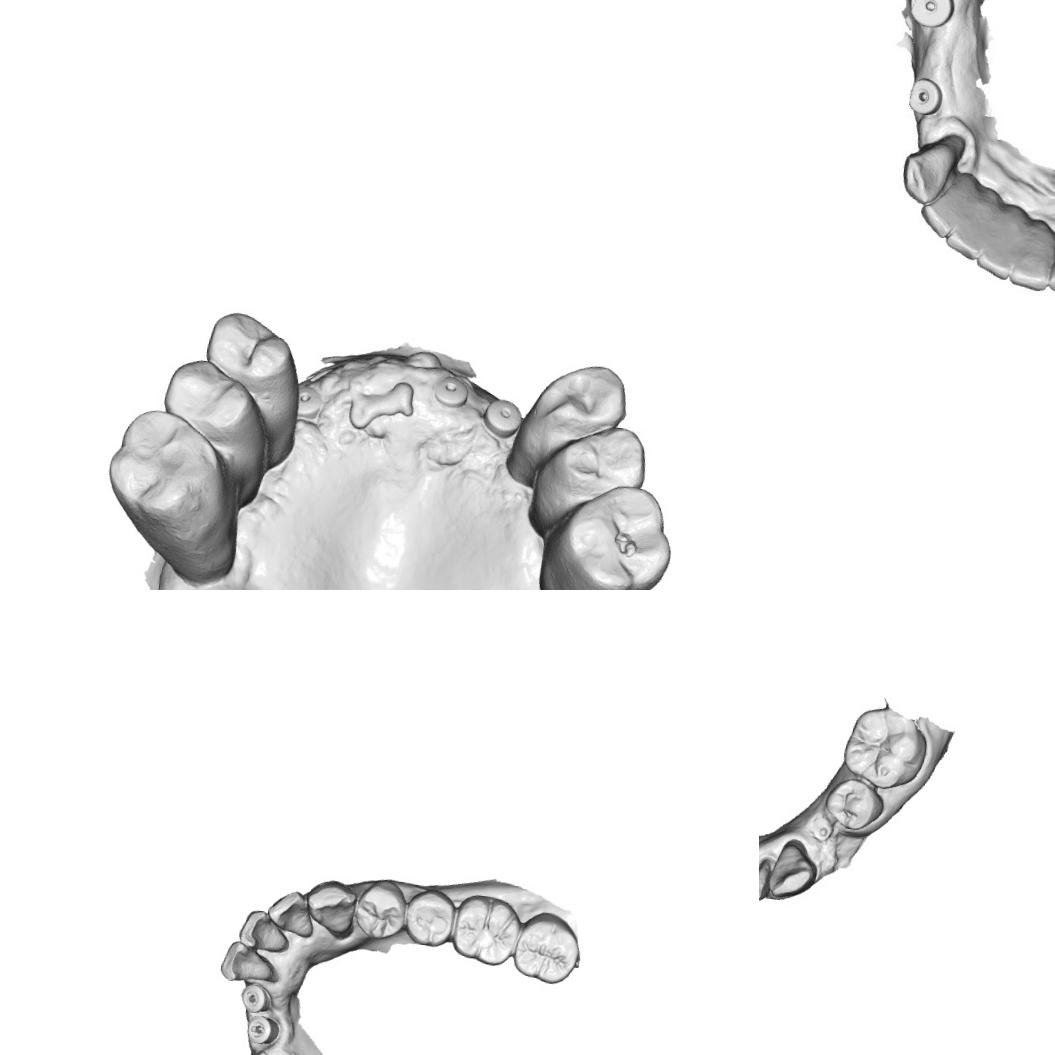canine: (898, 134, 960, 210), (767, 837, 822, 903), (302, 876, 360, 937)
crown: (759, 858, 771, 902)
implant: (900, 70, 956, 122), (480, 392, 526, 440), (430, 368, 475, 412), (907, 0, 955, 30), (294, 380, 328, 419)
implant_minus: (238, 980, 274, 1016)
implant_plus: (243, 1012, 281, 1048)
incisor: (922, 190, 980, 243), (263, 887, 319, 939), (218, 938, 278, 986), (235, 906, 294, 954), (977, 233, 1027, 280), (947, 208, 994, 258), (1012, 249, 1052, 290)
molar: (98, 402, 233, 544), (550, 476, 680, 590), (839, 702, 932, 794), (448, 890, 524, 970), (510, 907, 584, 988)
premolar: (194, 305, 302, 408), (158, 354, 264, 457), (542, 418, 650, 506), (531, 352, 633, 442), (351, 876, 410, 944), (821, 774, 887, 834), (401, 884, 458, 950)
